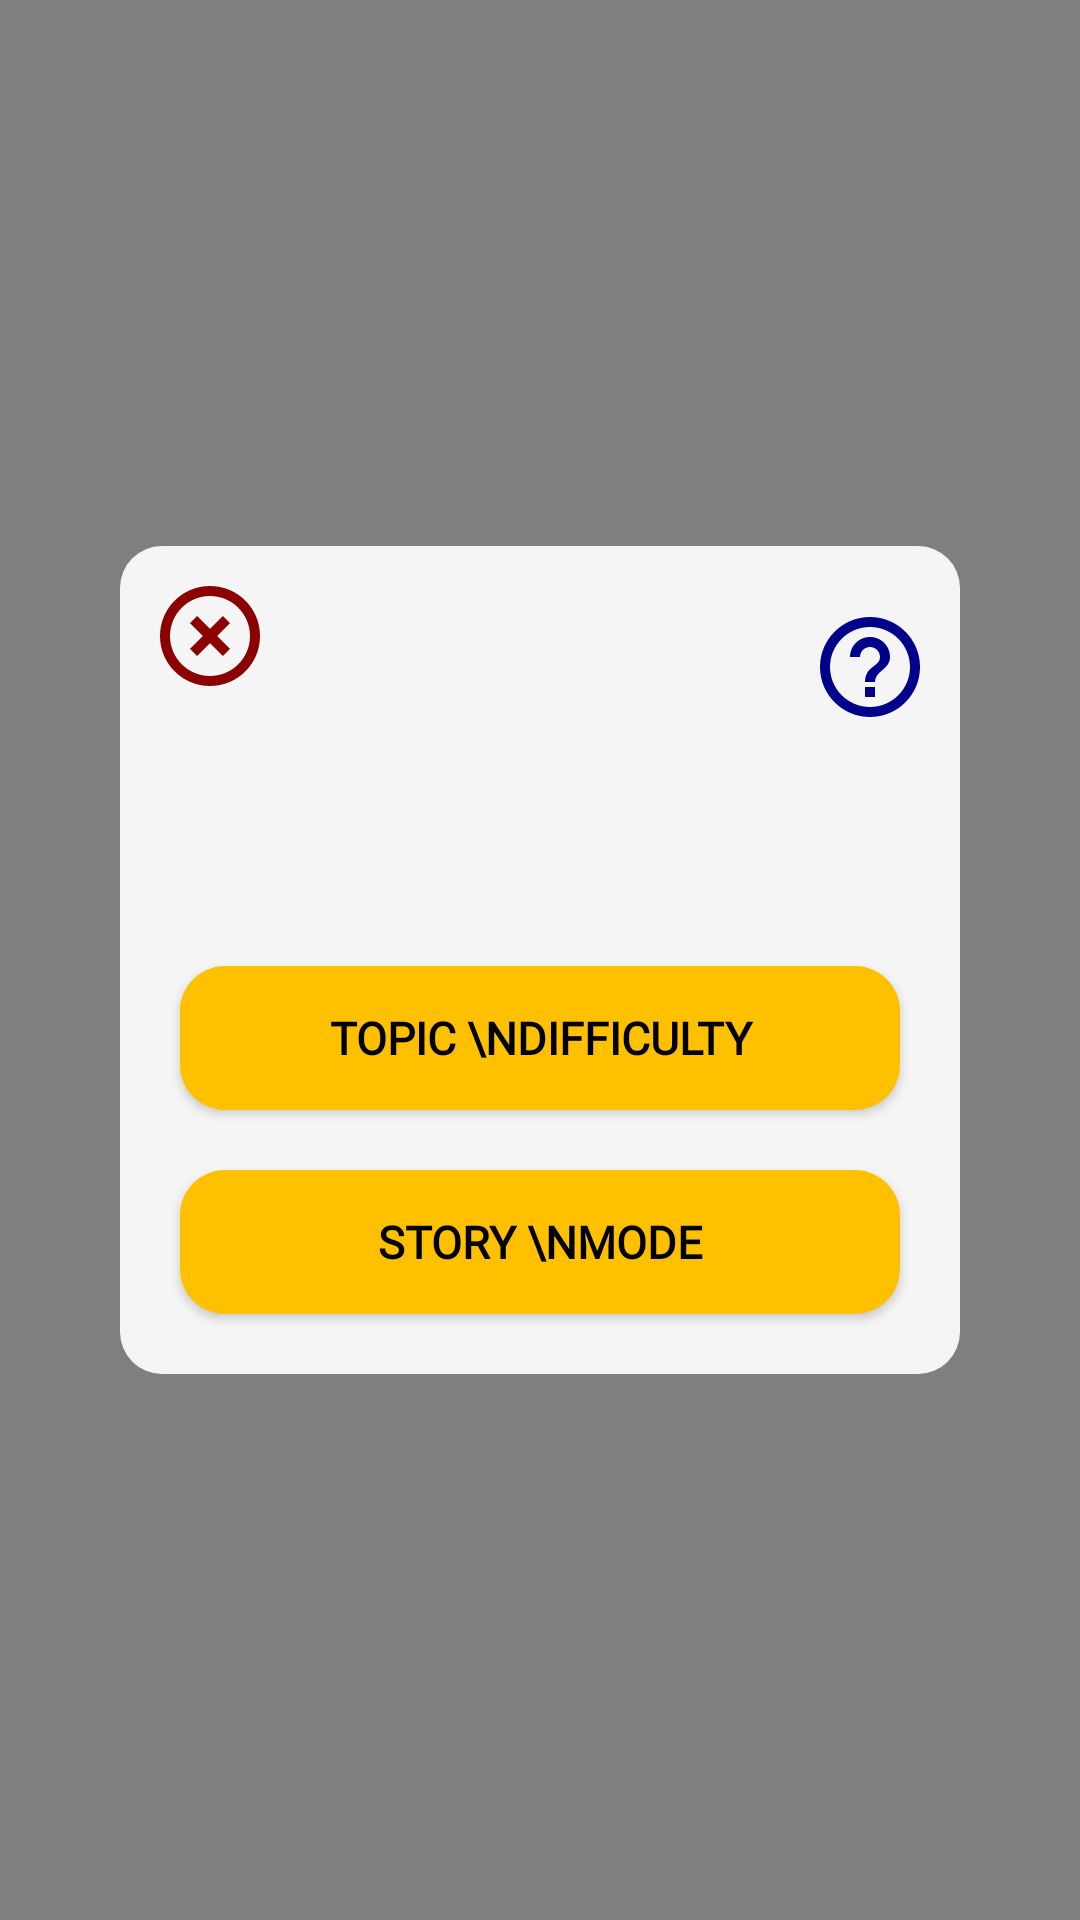

Where to tap for icons on this 1080 × 1920 app screen, as point (x, y):
close: point (210, 636)
help: point (870, 667)
